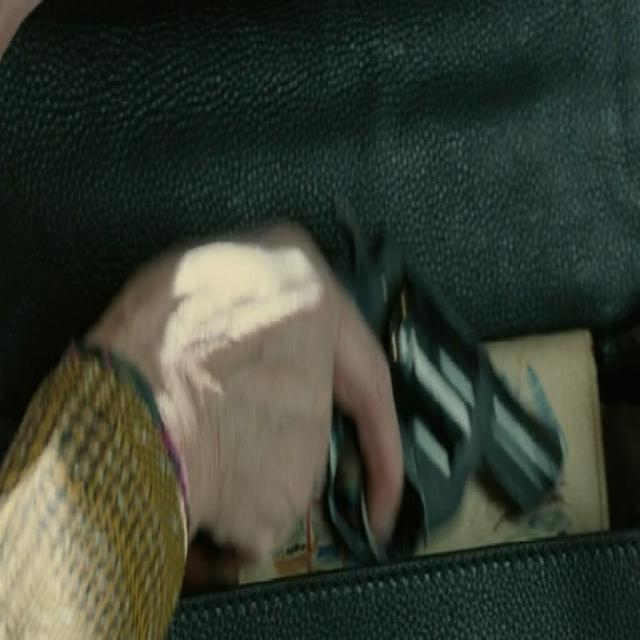gun-knife-thesis - v11 Yolov5 augmented: (144, 167, 557, 596)
